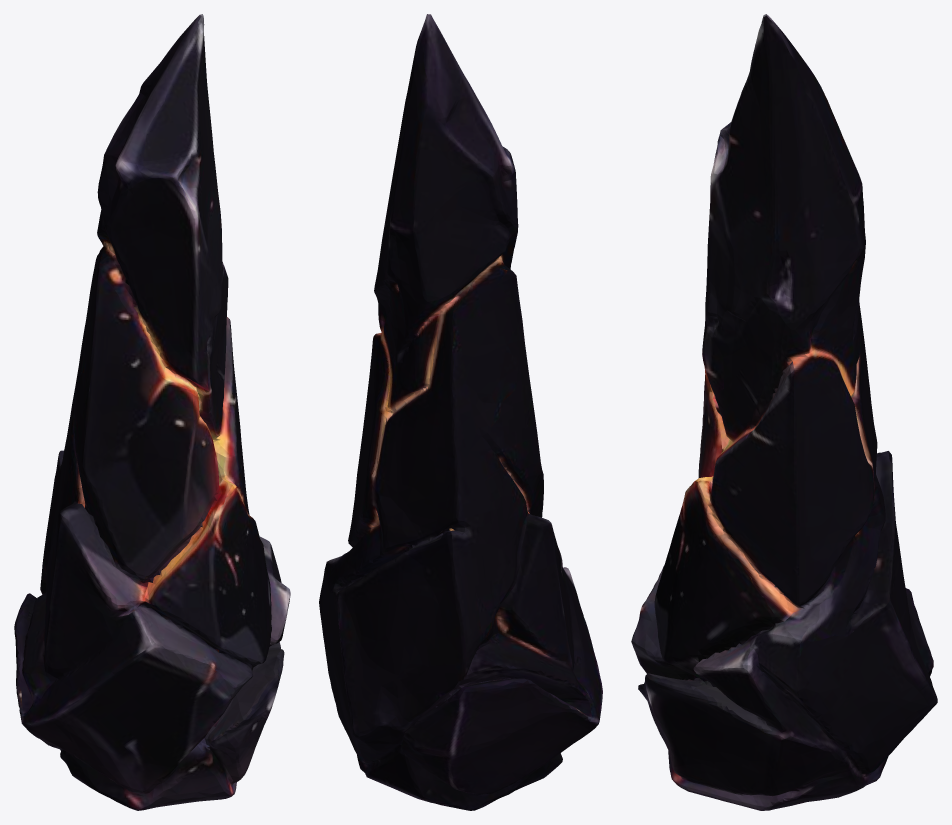
The model's file is obsidian_spire.glb.
3 renders of one model, left to right at view 1: azimuth 30°, elevation 25°; view 2: azimuth 150°, elevation 25°; view 3: azimuth 270°, elevation 25°, orthographic. The views are drawn at different scales.
Visible parts, largest first — view 1: tmpwsznor3n.ply; view 2: tmpwsznor3n.ply; view 3: tmpwsznor3n.ply.
Boxes of the visible parts, x1=… form: tmpwsznor3n.ply: x1=14, y1=14, x2=290, y2=810; tmpwsznor3n.ply: x1=319, y1=14, x2=602, y2=810; tmpwsznor3n.ply: x1=631, y1=14, x2=937, y2=810.
Size of the model in its own units: 0.7516 by 1.99 by 0.7088.
Materials: 1 (1 with a texture image).
